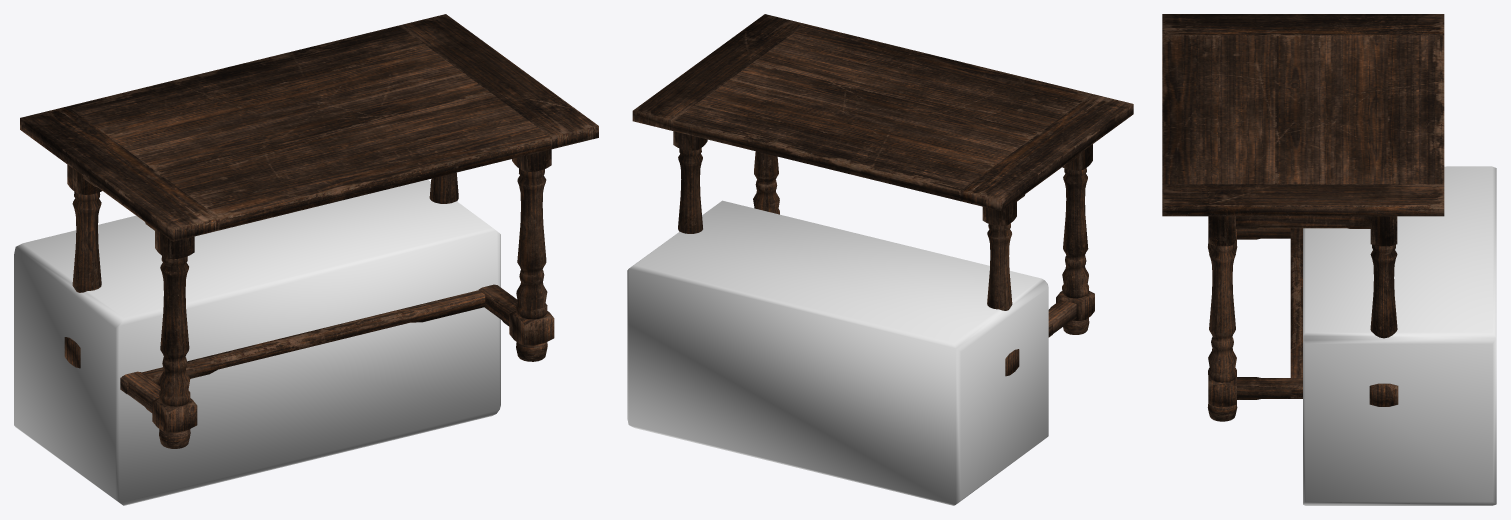
The model's file is SM_Table.fbx.
The picture shows the model from 3 angles, left to right: view 1: azimuth 30°, elevation 25°; view 2: azimuth 150°, elevation 25°; view 3: azimuth 270°, elevation 25°; orthographic projection. The views are drawn at different scales.
Visible parts, largest first — view 1: SM_Table_ConvexHulls, SM_Table; view 2: SM_Table_ConvexHulls, SM_Table; view 3: SM_Table, SM_Table_ConvexHulls.
Part boxes in pixels (x1=…): SM_Table_ConvexHulls: x1=14, y1=179, x2=500, y2=505; SM_Table: x1=20, y1=14, x2=598, y2=448; SM_Table_ConvexHulls: x1=627, y1=200, x2=1048, y2=505; SM_Table: x1=632, y1=14, x2=1133, y2=376; SM_Table: x1=1162, y1=14, x2=1444, y2=421; SM_Table_ConvexHulls: x1=1303, y1=166, x2=1496, y2=505.
Size of the model in its own units: 1.51 by 1.15 by 1.11.
